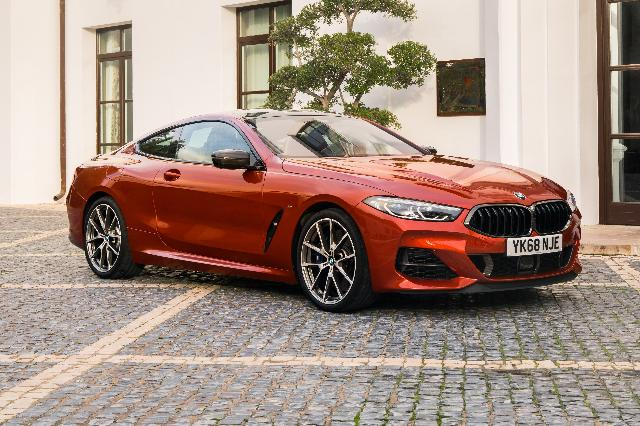bmw: (65, 109, 582, 313)
